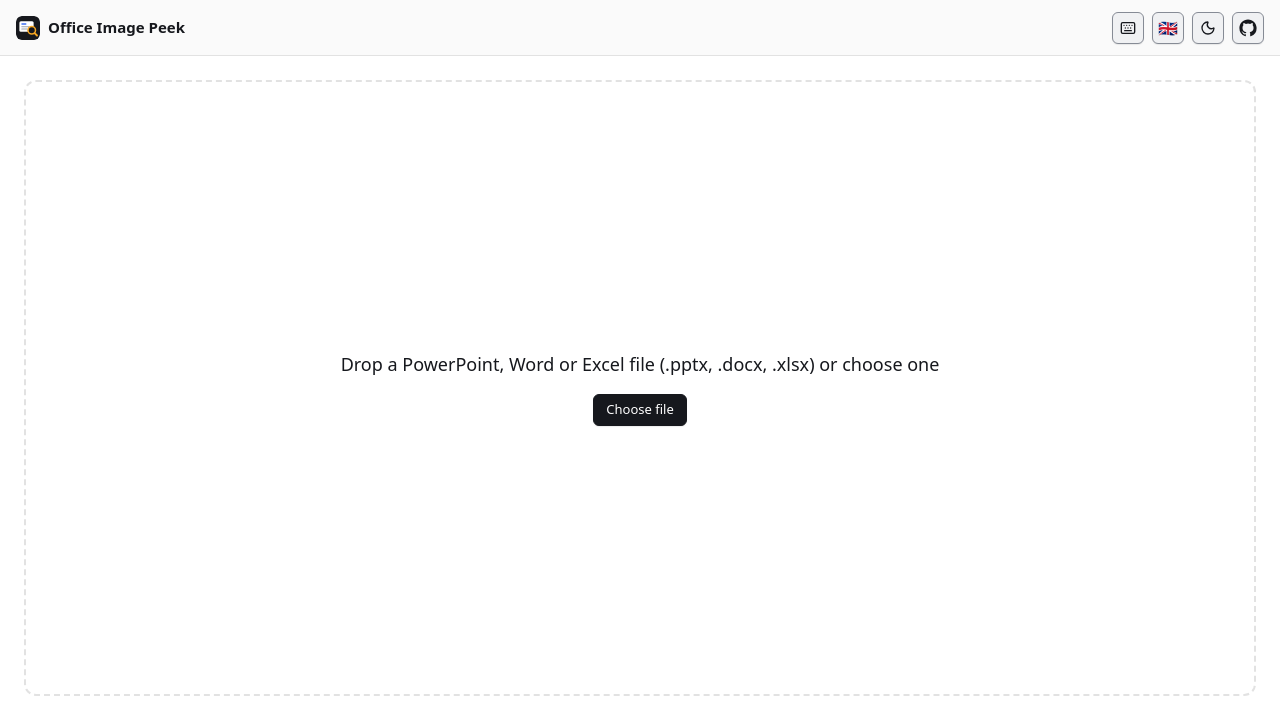
Test: App shell › switches the language of the drop text
expect the text "Drop a PowerPoint, Word or Excel file" is shown: met, box 341,352 -> 939,376
Click the button named "switch language" at (1168, 28), box 1152,12 -> 1184,44
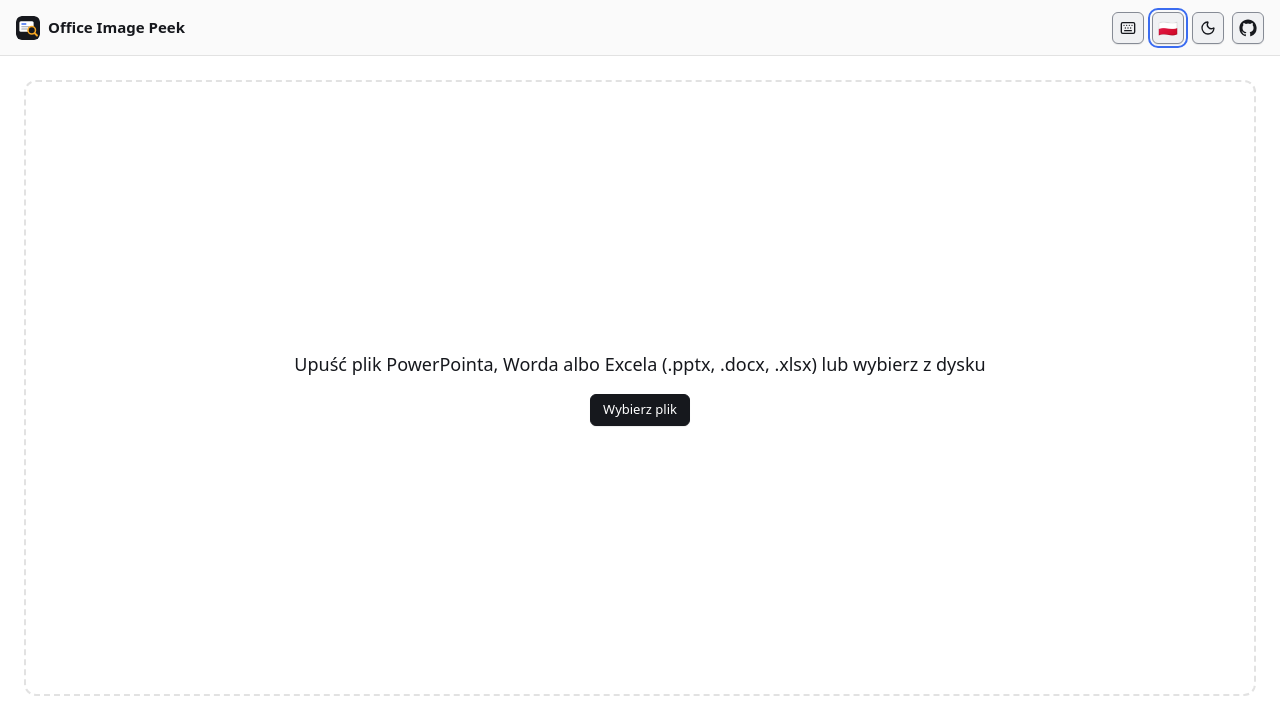
expect the text "Upuść plik PowerPointa, Worda albo Excela" is shown: met, box 294,352 -> 986,376
